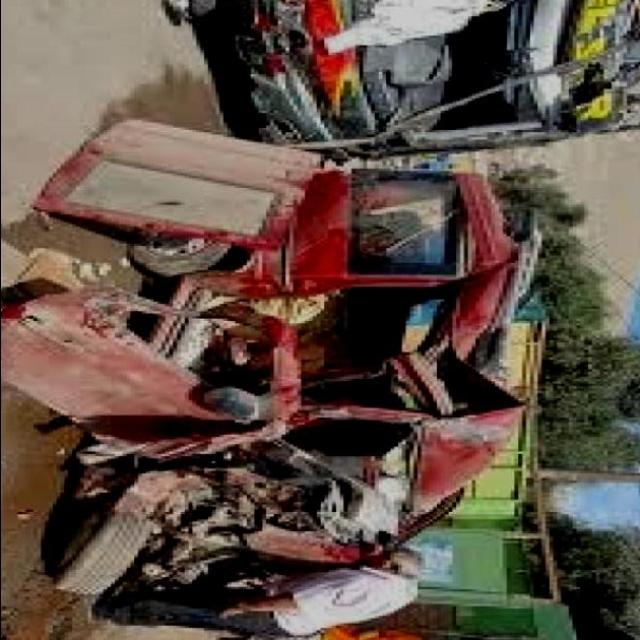accident: (11, 147, 538, 625), (222, 0, 640, 162)
